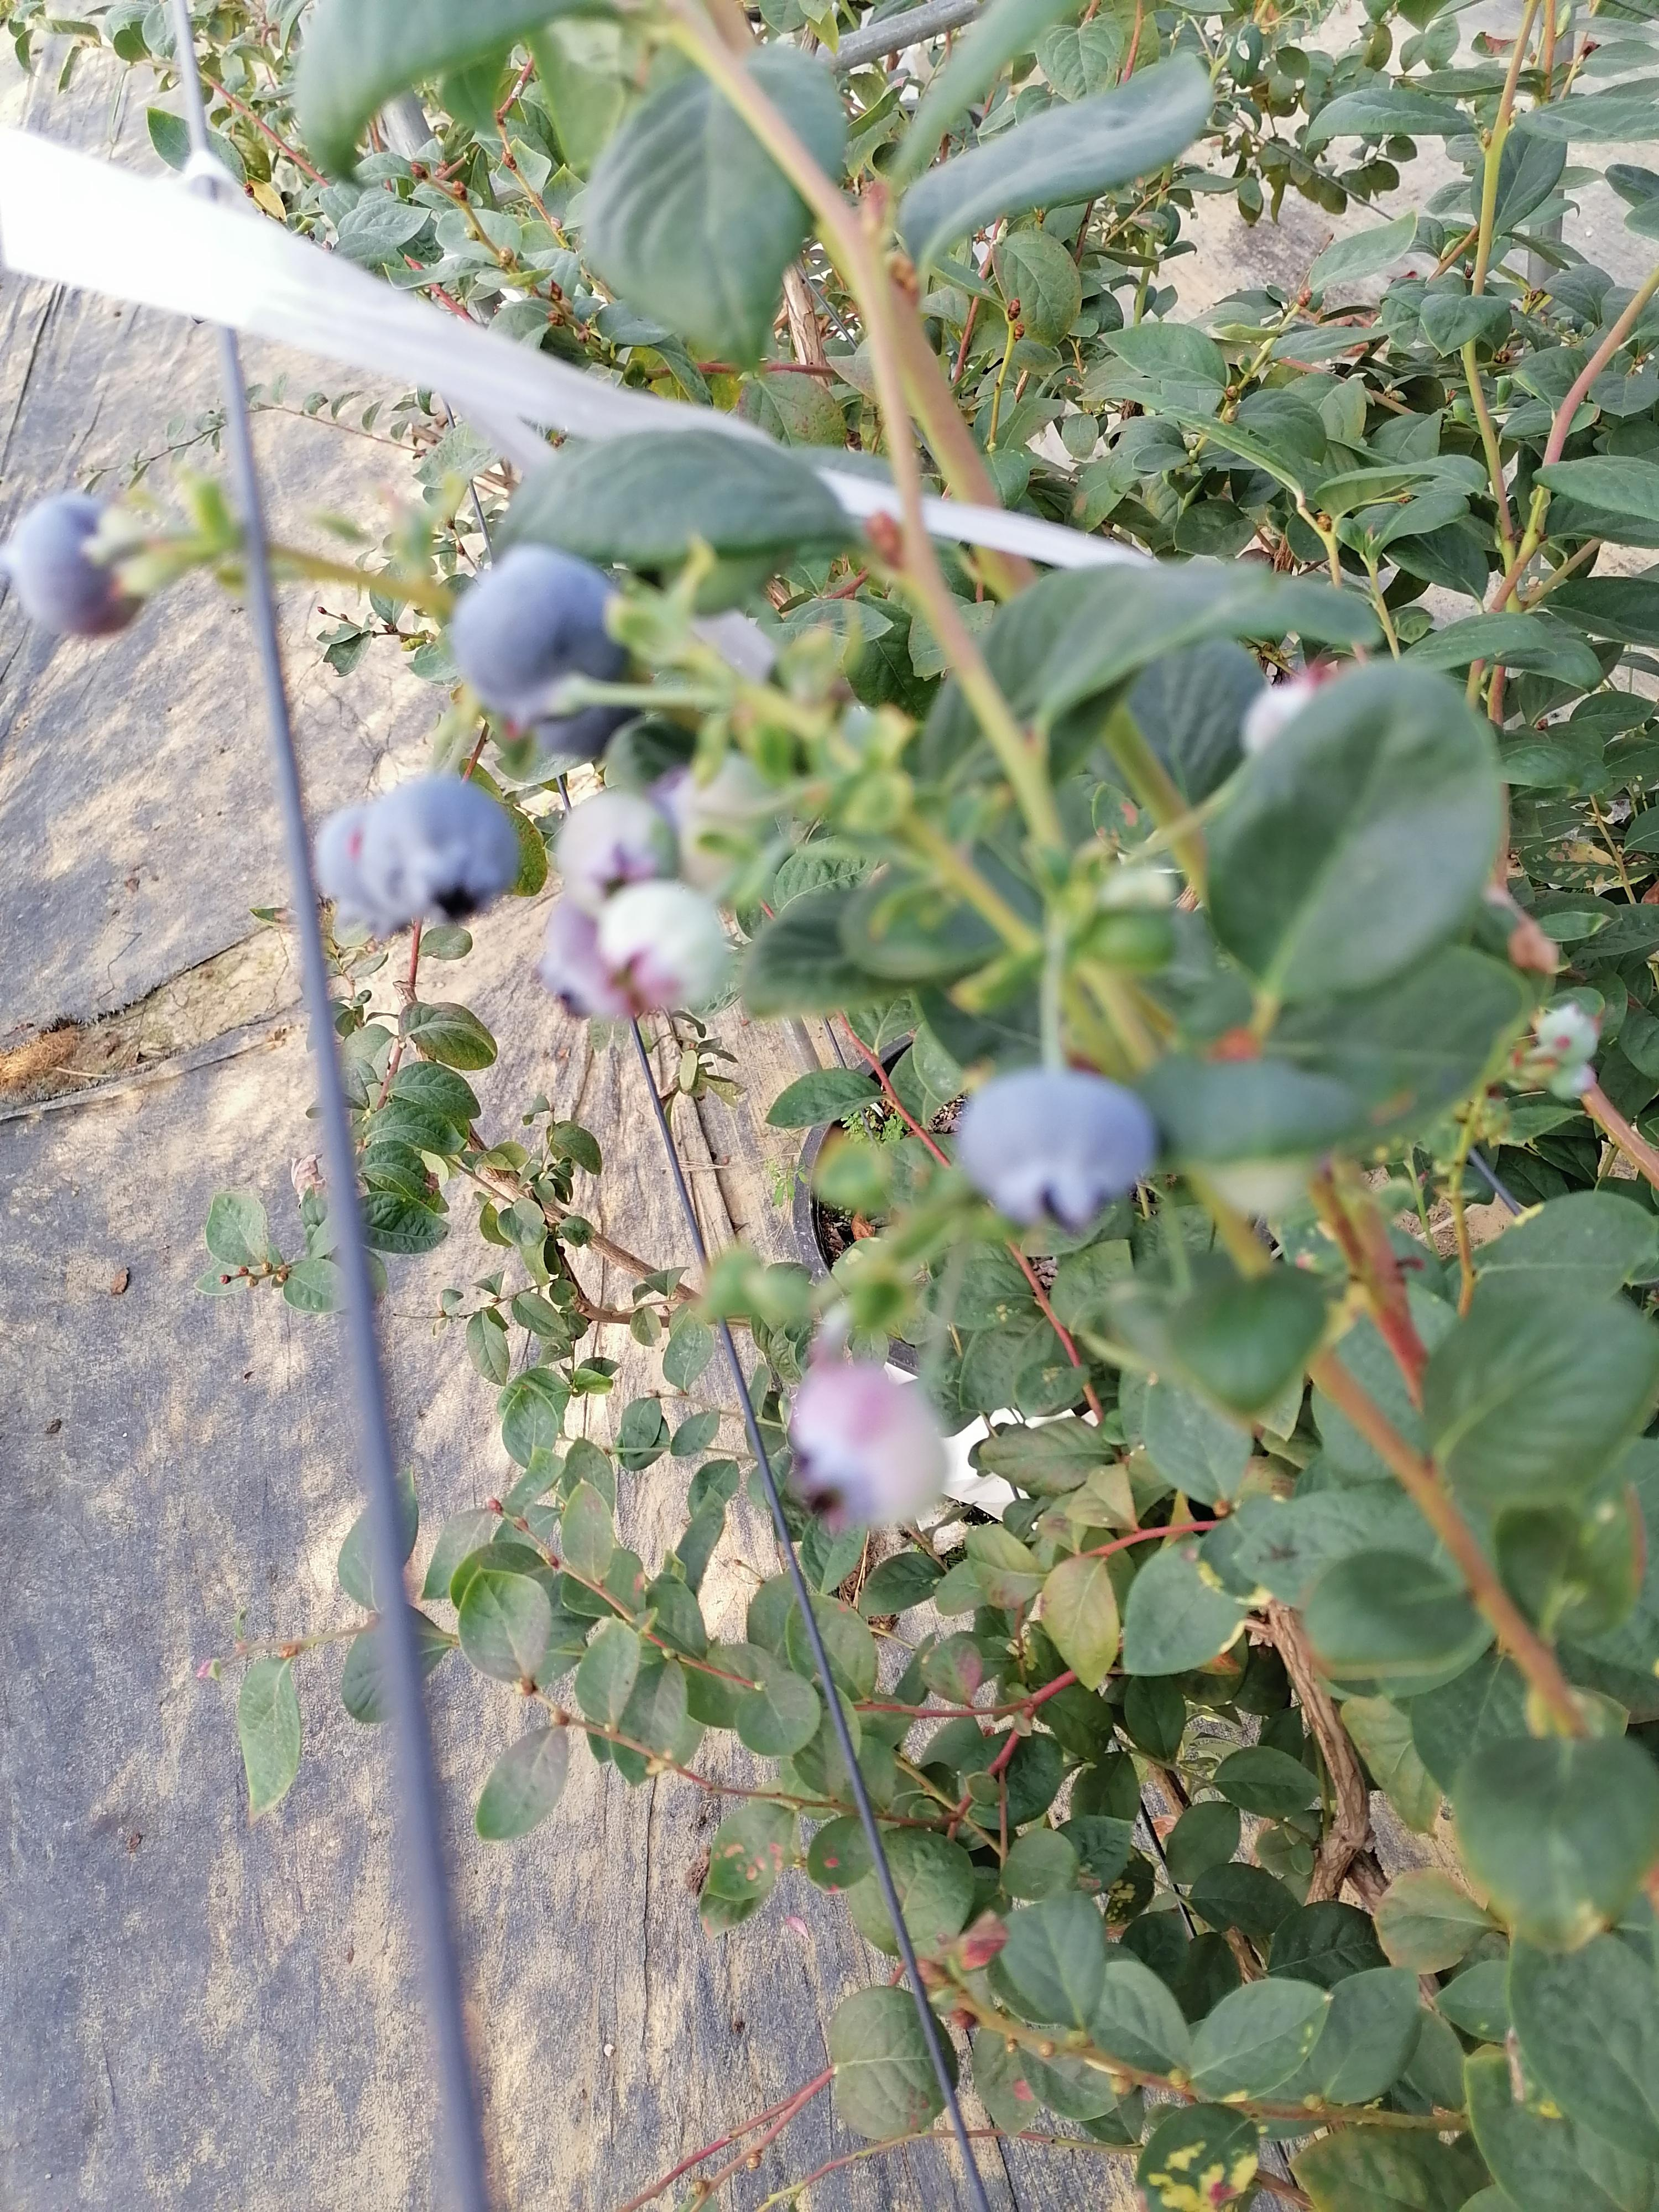ripe-blueberries: (960, 1068, 1154, 1233), (364, 777, 521, 921), (5, 493, 150, 641), (317, 806, 411, 946)
